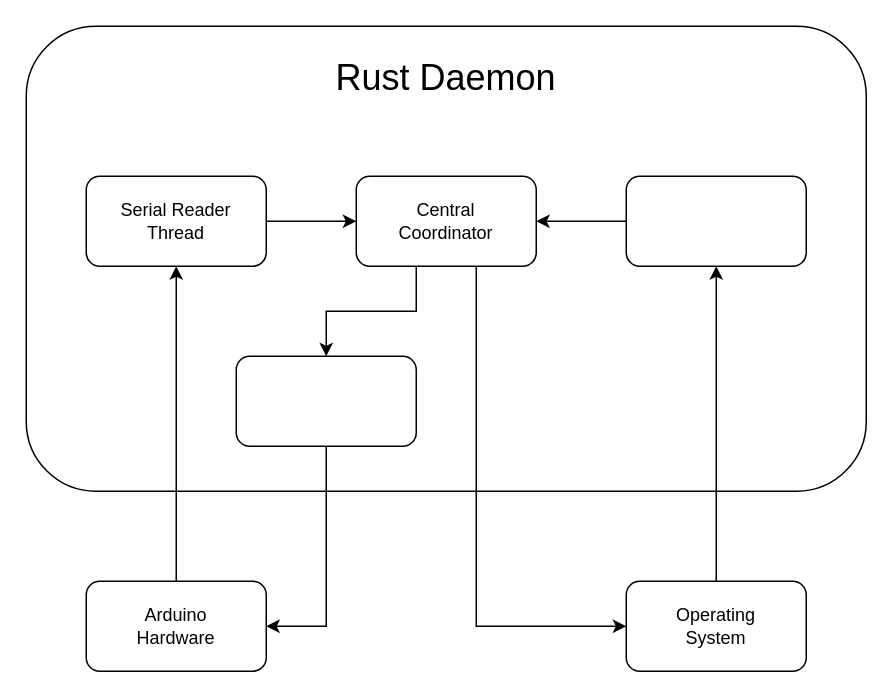
Image size: 893x698. Some labels were removed from this diagram. The shapes that lost their labels are listed below. From the top down, each one's box as (x1, y1, x2, y2) in pixels, then its label:
(625, 175, 806, 266): Windows Audio Listener
(235, 355, 416, 446): Serial Writer Thread
